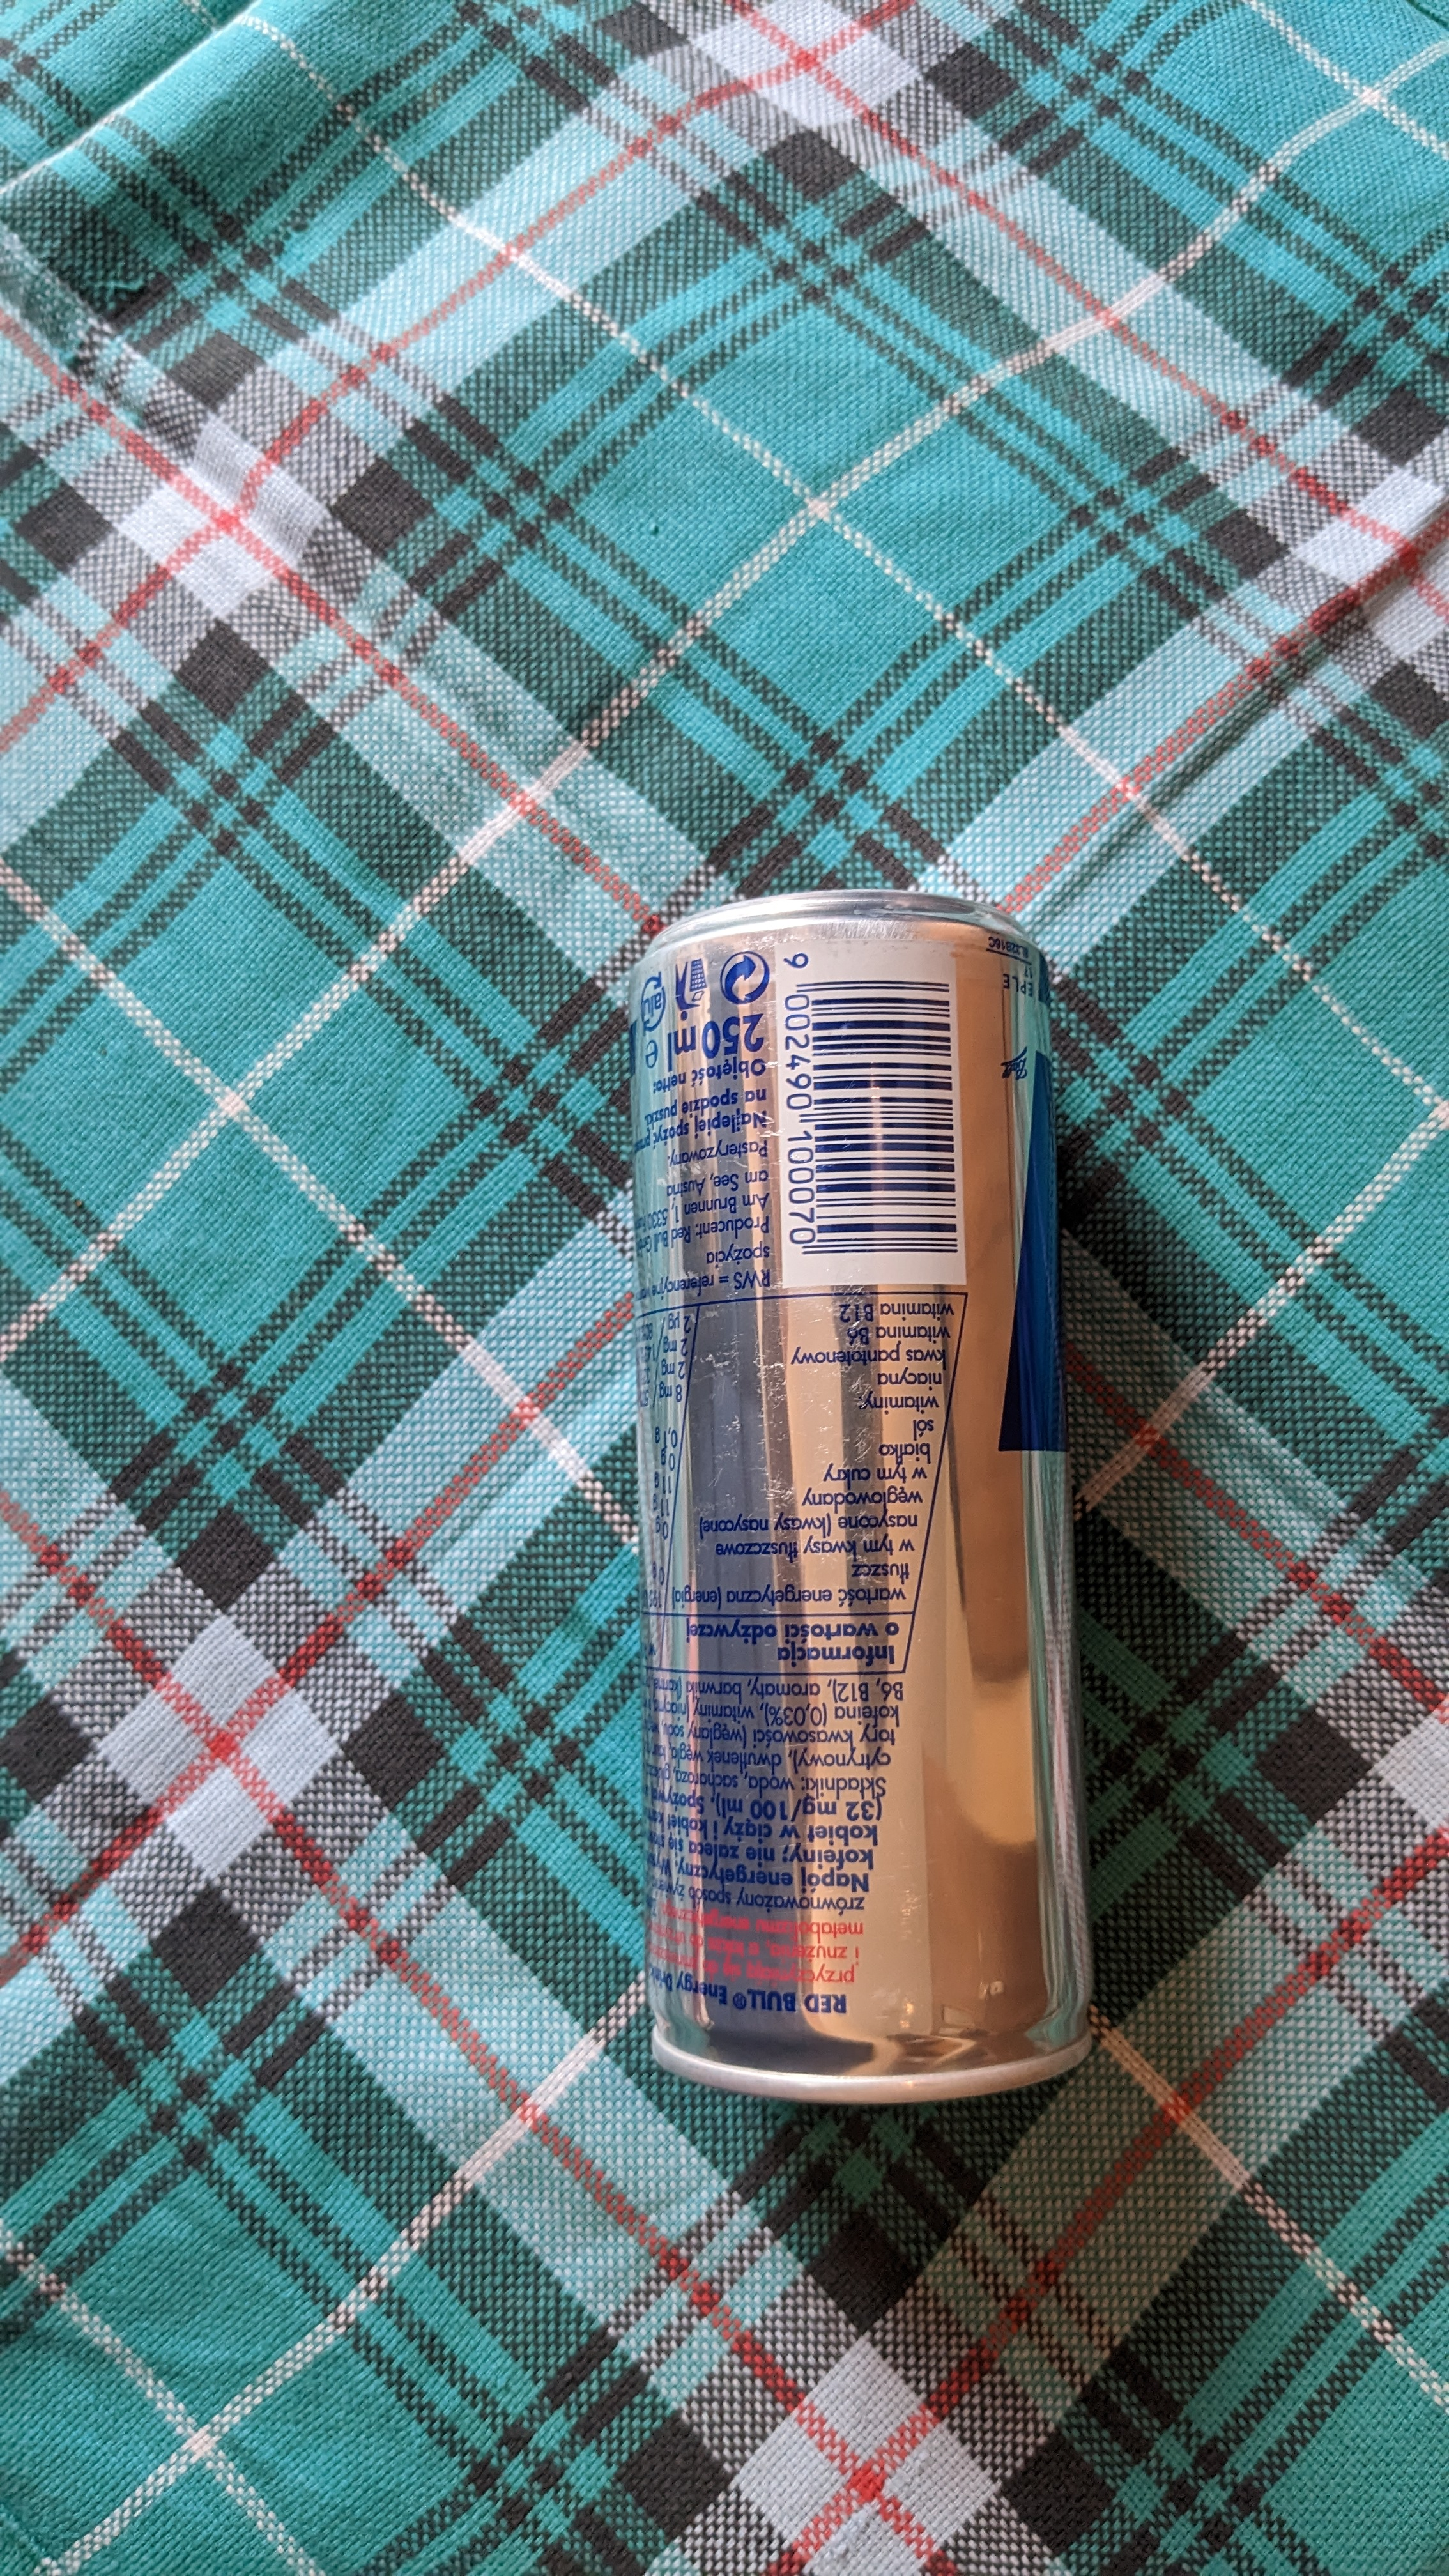red-bull: (580, 863, 1177, 2141)
